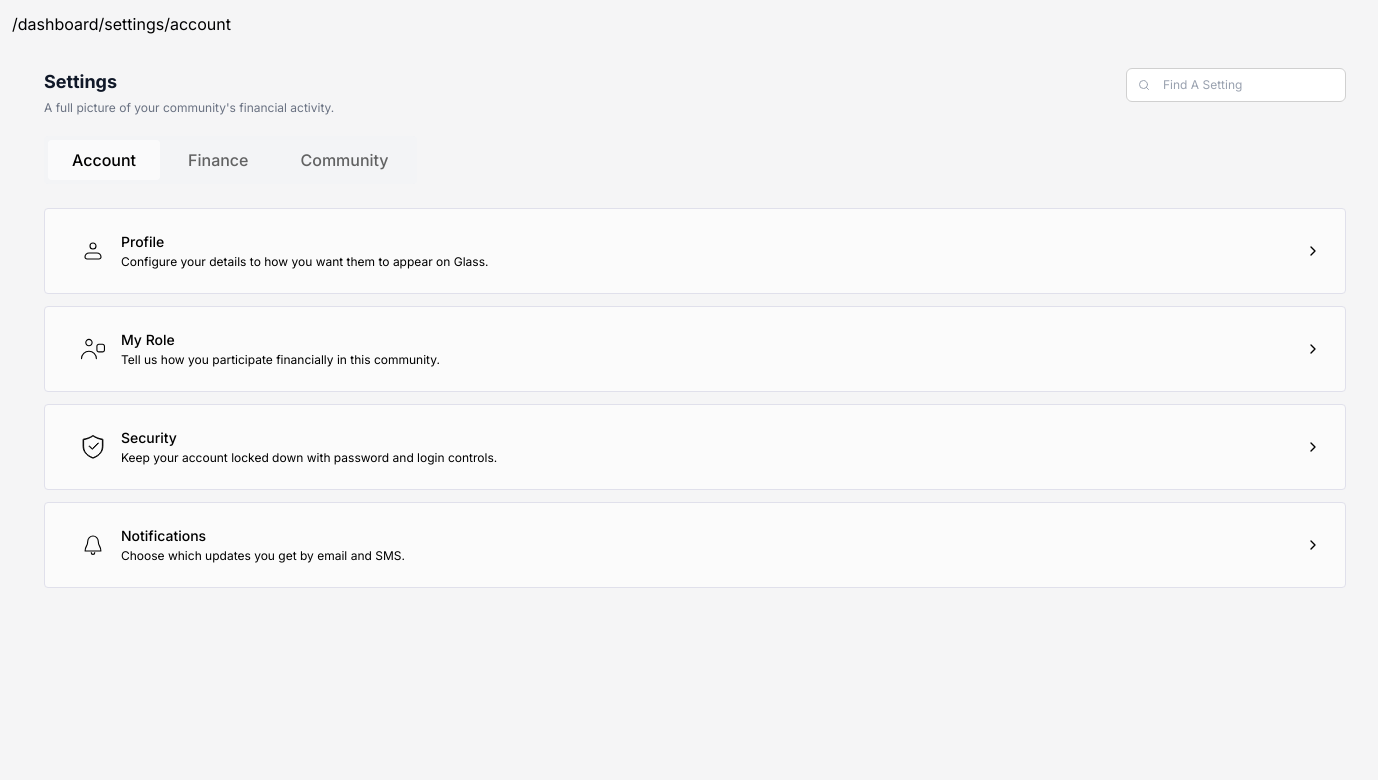
Scenario: Settings community context -- account level stays account level › renders account destinations without requiring any community
This screenshot has width=1378, height=780.
Check: the text "Profile" is shown, box x1=121 y1=233 x2=164 y2=250
Step 1. Click the button "Profile" → (143, 242), box x1=44 y1=208 x2=1346 y2=294
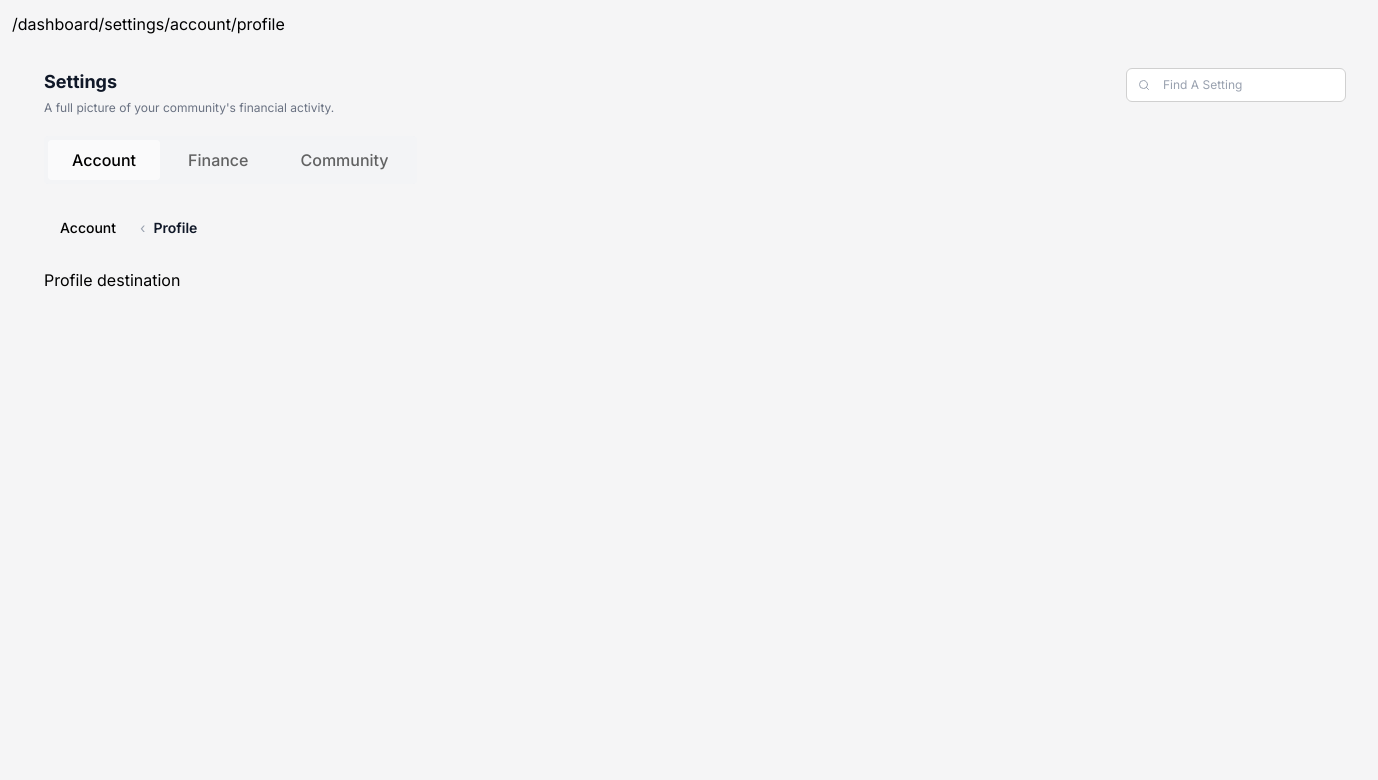
Check: the text "Profile destination" is shown, box x1=44 y1=270 x2=180 y2=290
